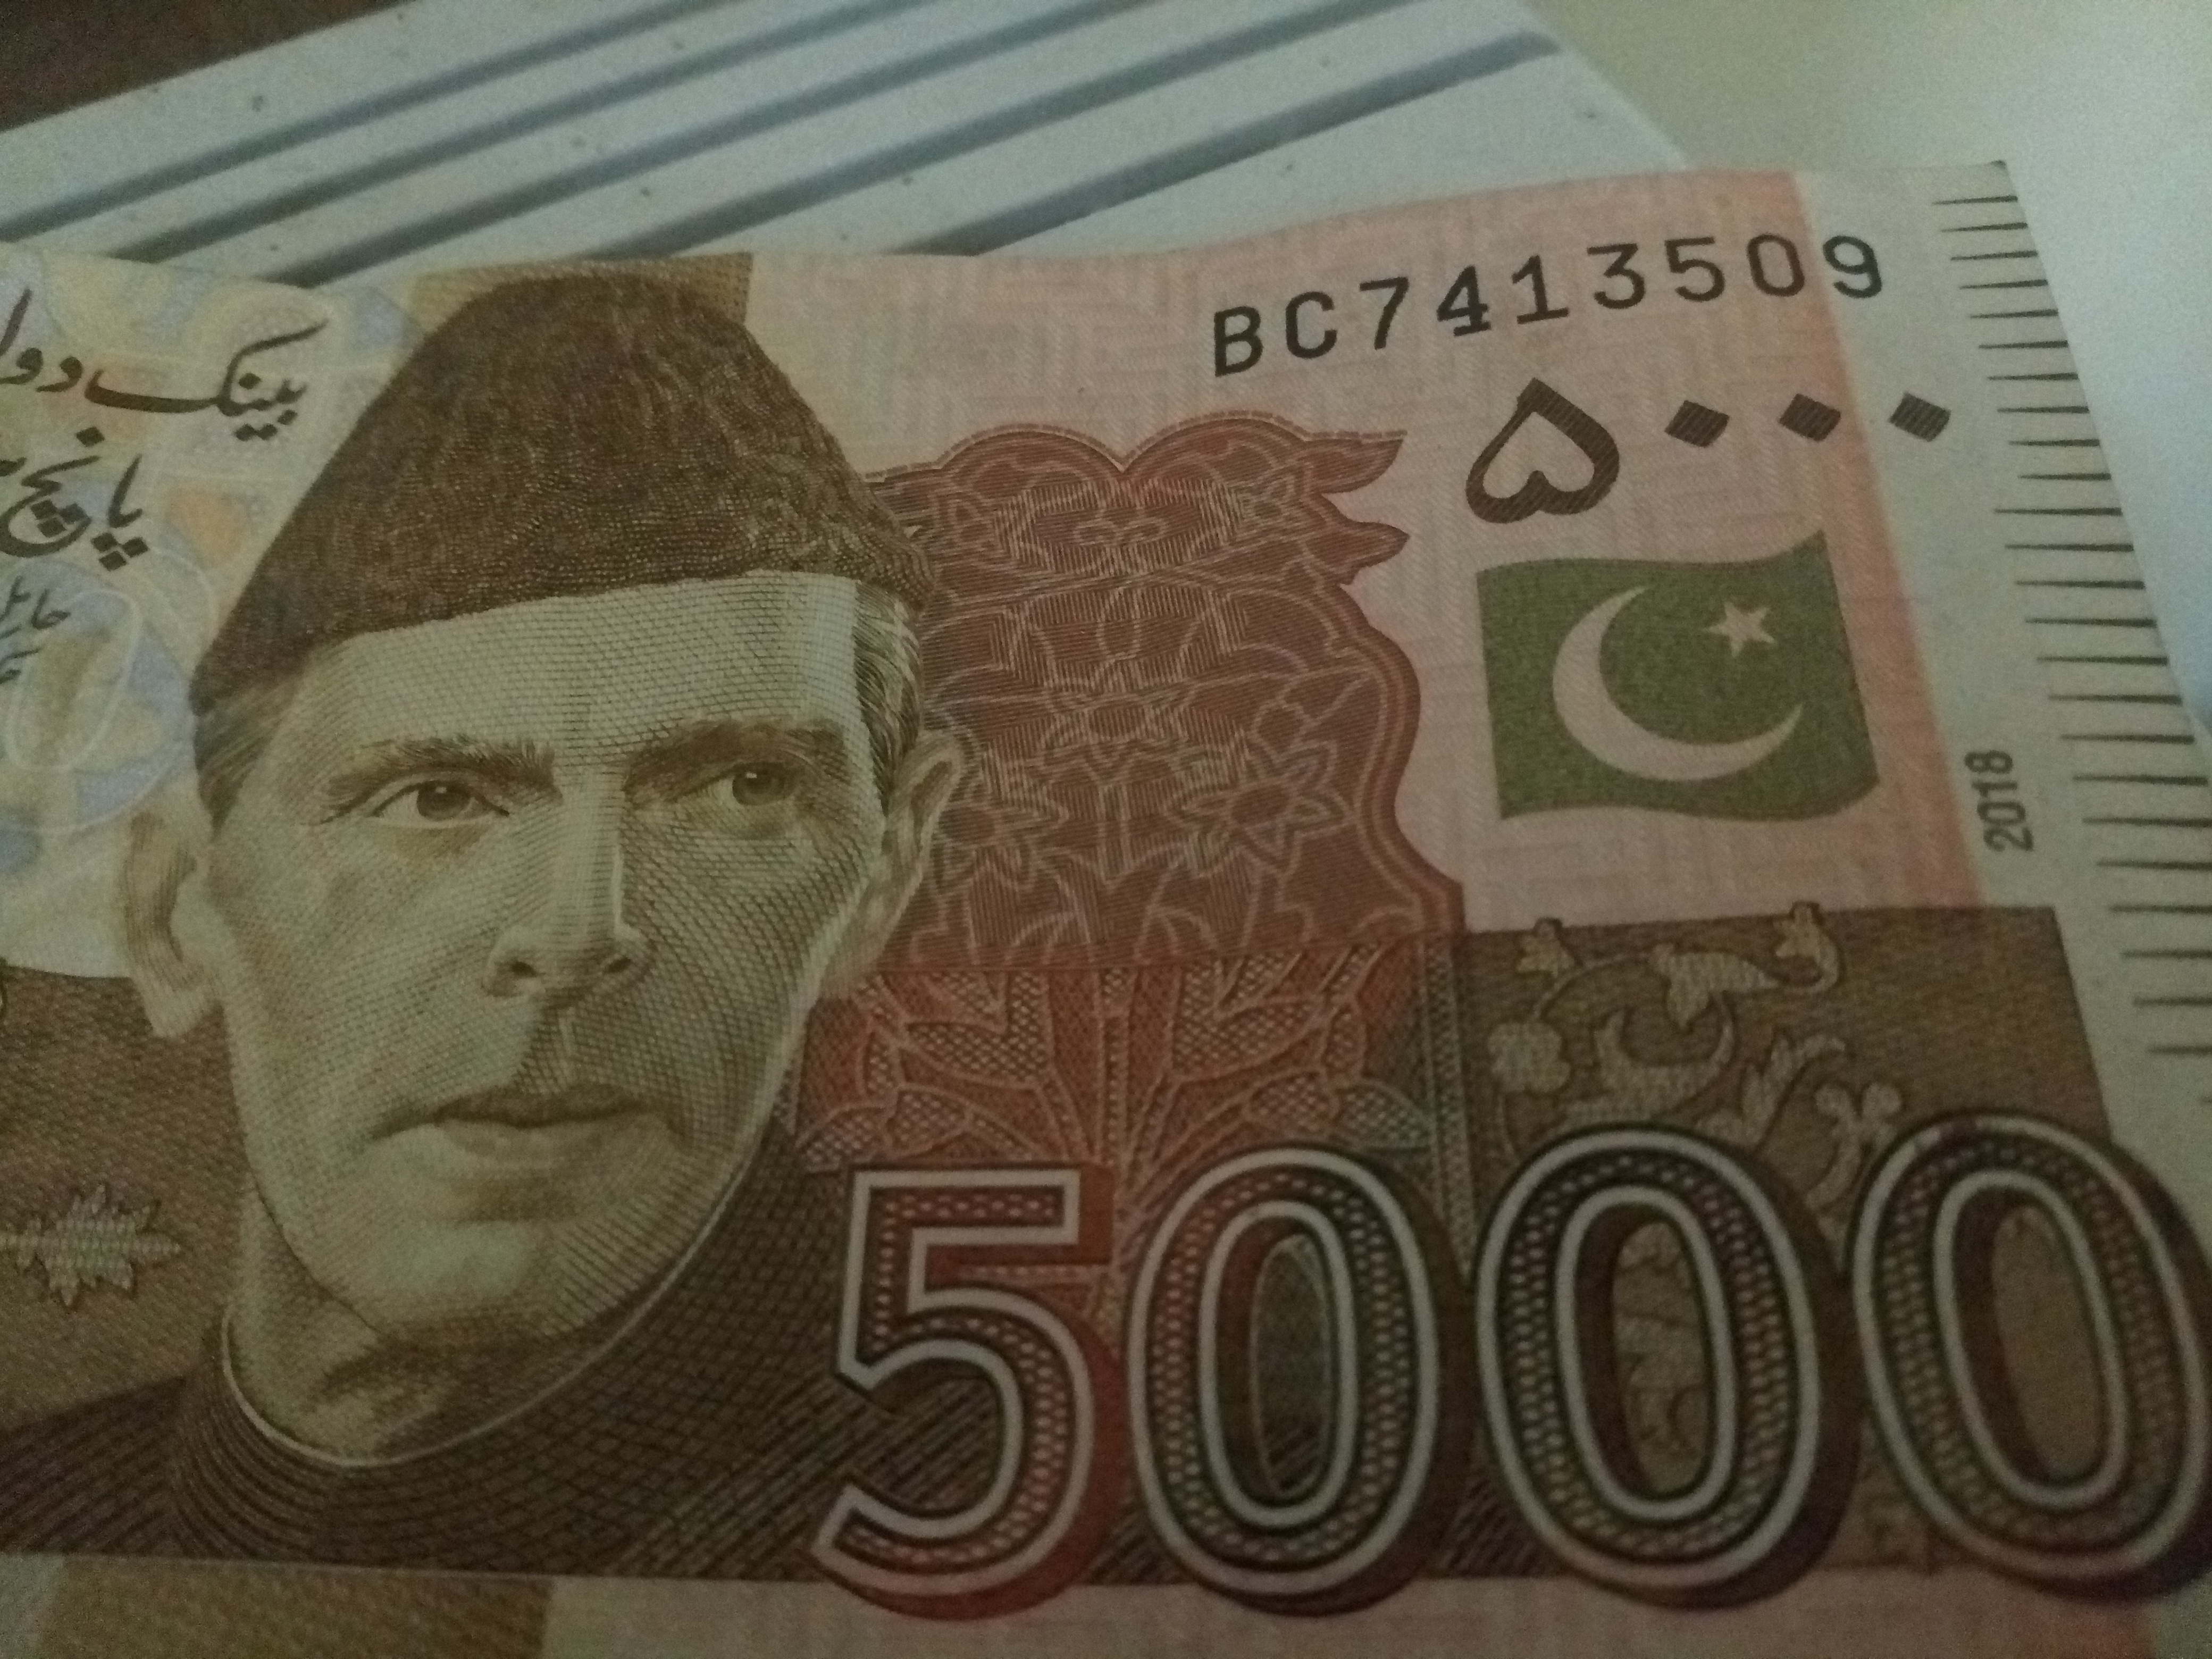5000 rupee: (44, 199, 2196, 1659), (643, 1098, 2189, 1659), (1350, 375, 1986, 889)
